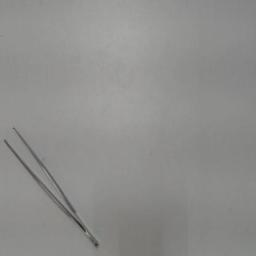Gillies Toothed Dissector: (2, 117, 104, 253)
